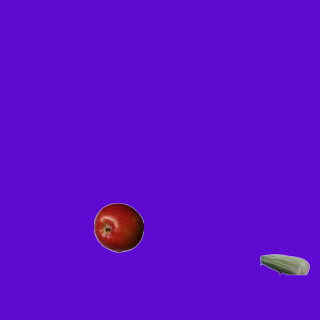Apple Braeburn: (93, 202, 143, 252)
Corn Husk: (259, 239, 309, 289)
